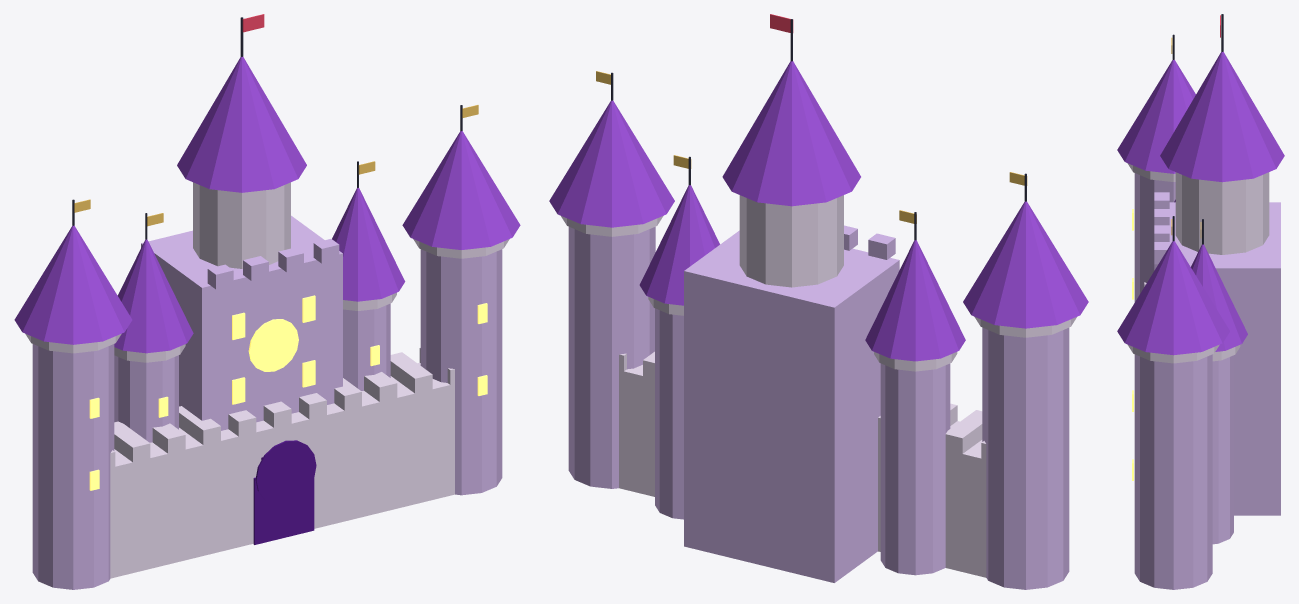
File: castle.glb
3 views of the same model, side by side, from view 1: azimuth 30°, elevation 25°; view 2: azimuth 150°, elevation 25°; view 3: azimuth 270°, elevation 25° (orthographic). The views are drawn at different scales.
Visible parts, largest first — view 1: castle; view 2: castle; view 3: castle.
Part boxes in pixels (bbox=[...]): castle: bbox=[14, 14, 520, 589]; castle: bbox=[549, 14, 1088, 589]; castle: bbox=[1117, 14, 1284, 589].
Bounding box in the file's own units: 27.8 × 26.5 × 8.6.
